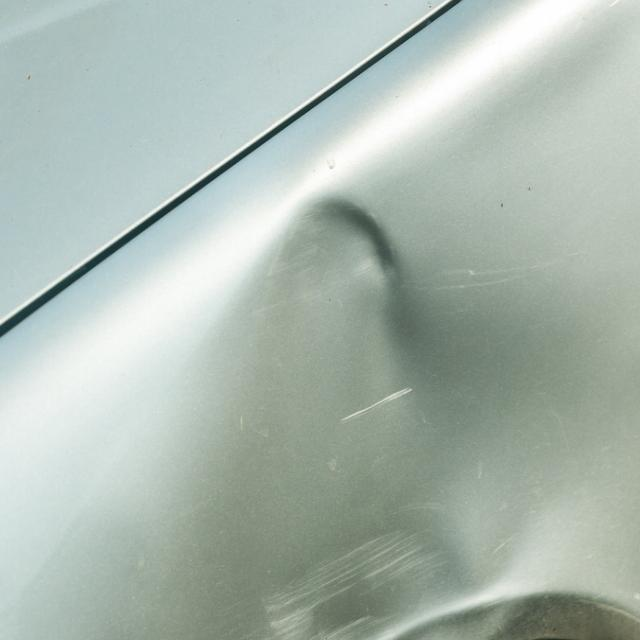dents: (233, 171, 445, 397), (230, 500, 521, 640)
